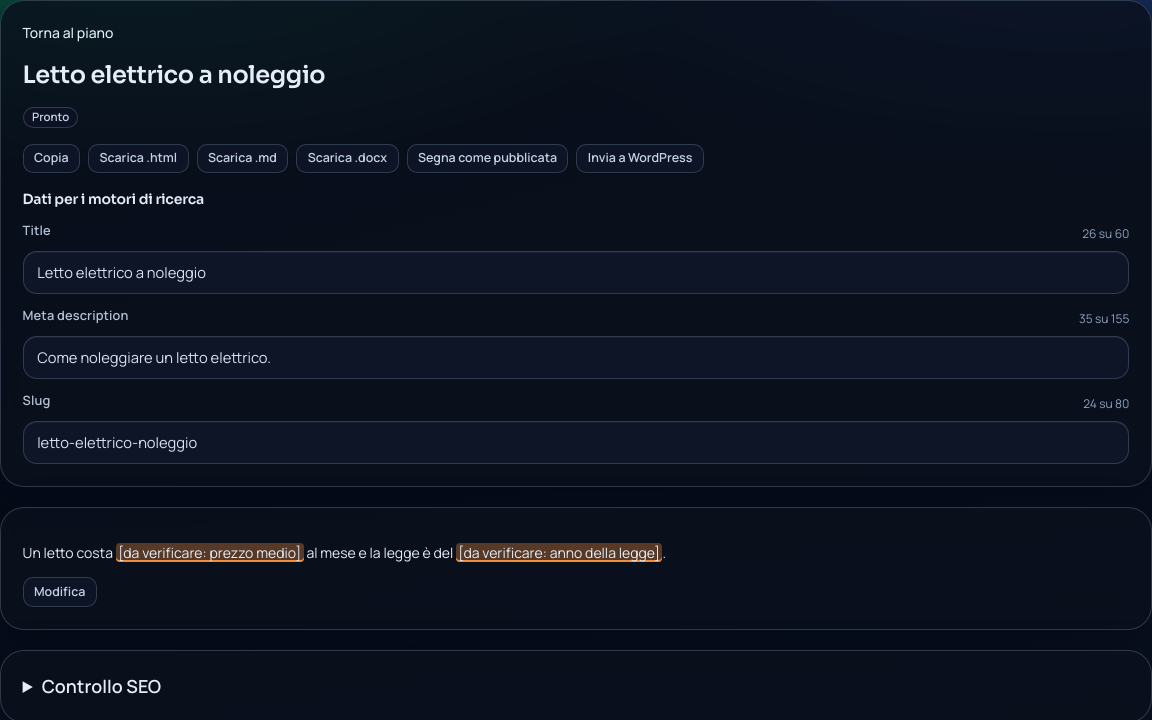
Scenario: «Invia a WordPress» › con i segnaposto chiede conferma, poi crea la bozza, mostra il link e diventa «Aggiorna la bozza su WordPress»
Click the button "Invia a WordPress": click(640, 158) [576,144,704,173]
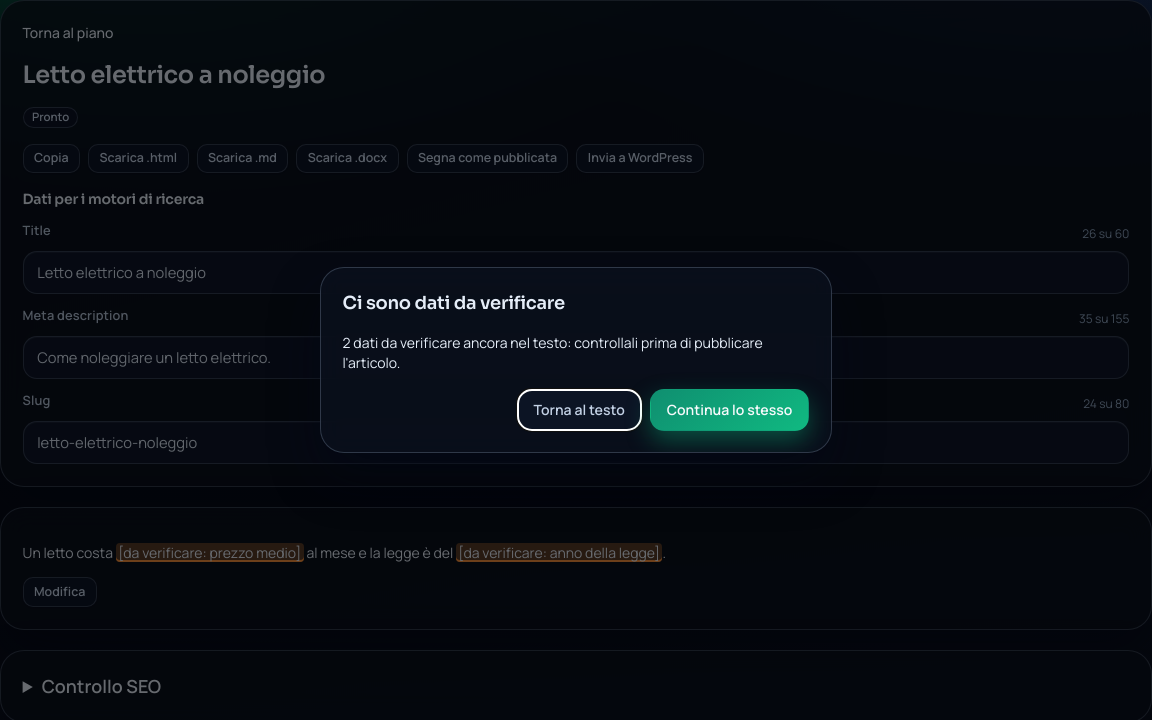
Click the button "Continua lo stesso": click(730, 410) [650,389,809,431]
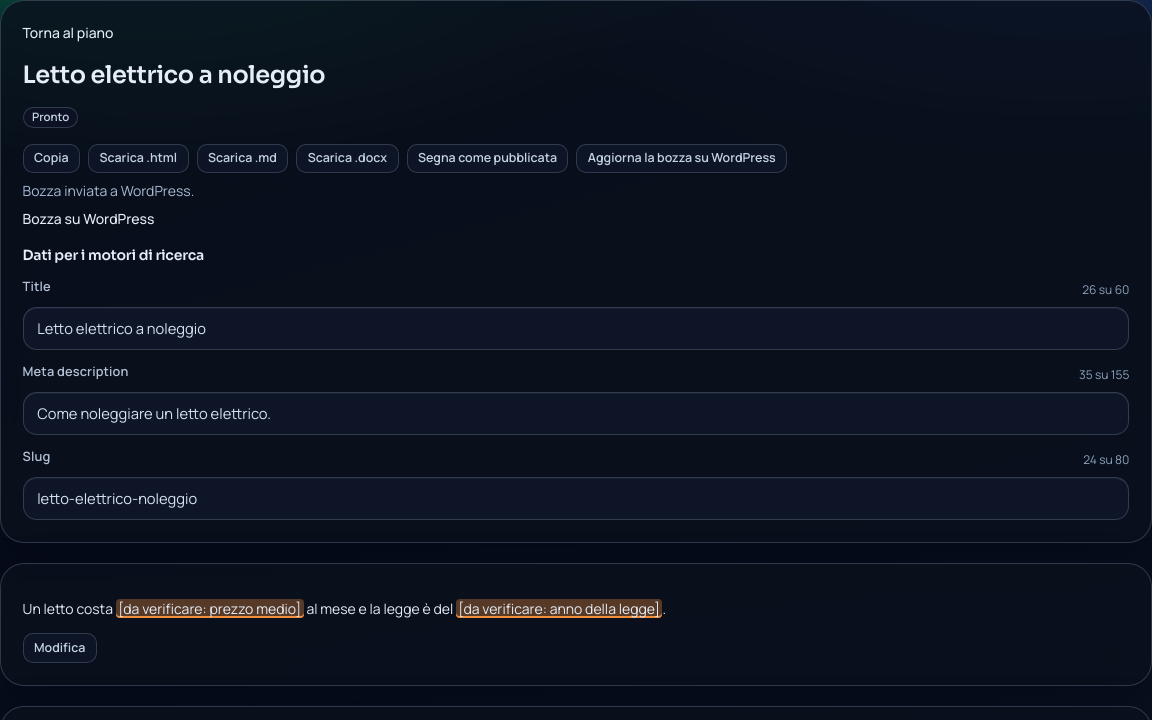
Result: the text "Bozza inviata a WordPress." is shown at [23,181,194,200]
Result: the button "Aggiorna la bozza su WordPress" is shown at [576,144,787,173]
